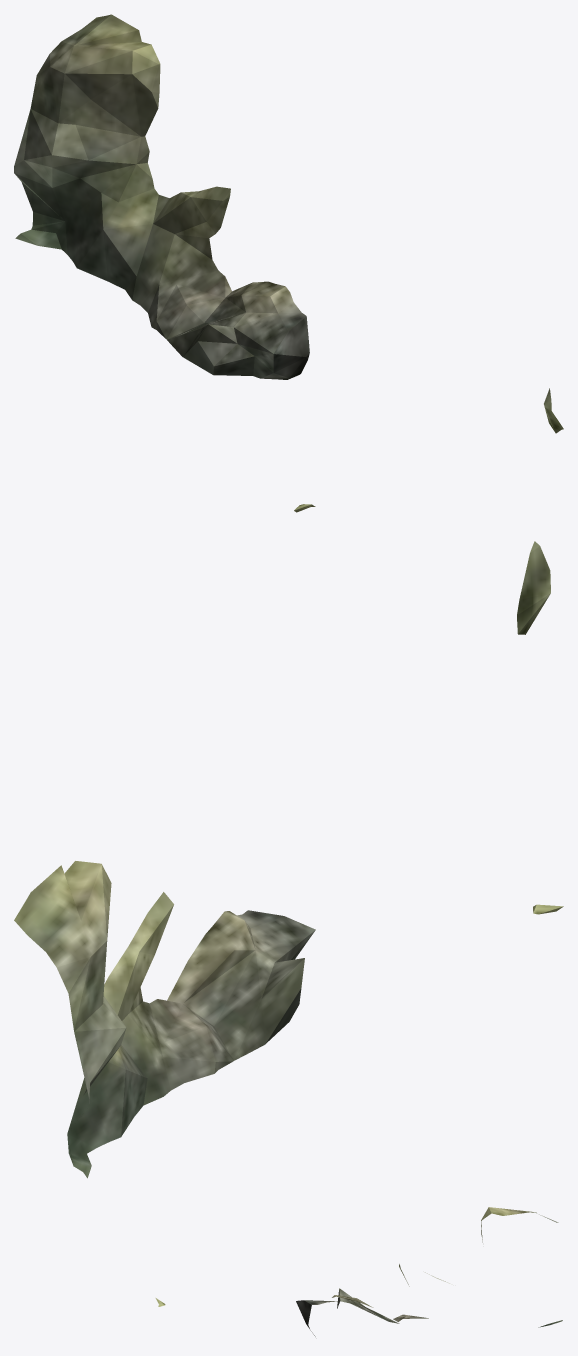
3 views of the same model, one above another, from view 1: azimuth 30°, elevation 25°; view 2: azimuth 150°, elevation 25°; view 3: azimuth 270°, elevation 25° (orthographic). The views are drawn at different scales.
Size of the model in its own units: 3.78 by 5.53 by 20.97.
1 material, 1 textured.
